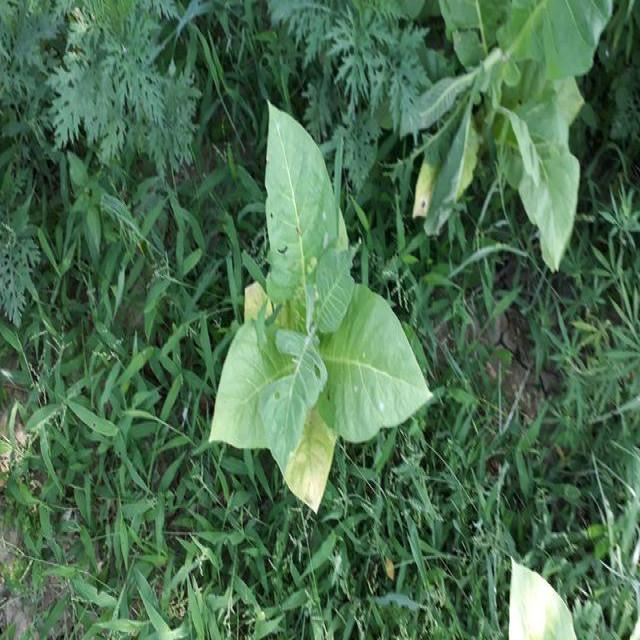crop: (214, 101, 428, 514), (427, 0, 598, 255), (503, 556, 572, 640)
